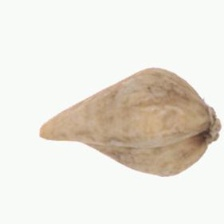L1: (202, 104, 223, 150), (38, 118, 63, 143)
L2: (38, 67, 221, 178)
